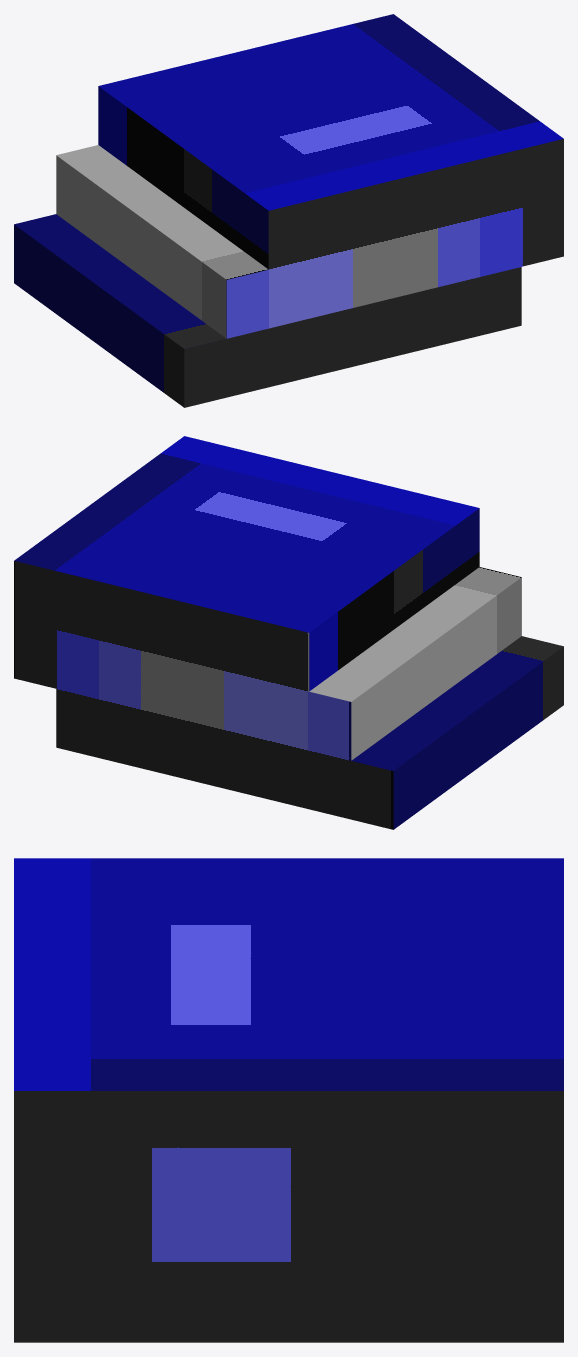
File: book_0x282_16.glb
The picture shows the model from 3 angles, top to bottom: view 1: azimuth 30°, elevation 25°; view 2: azimuth 150°, elevation 25°; view 3: azimuth 270°, elevation 25°; orthographic projection. The views are drawn at different scales.
Visible parts, largest first — view 1: Cube; view 2: Cube; view 3: Cube.
Boxes of the visible parts, <box> form: Cube: <box>14,14,563,407</box>; Cube: <box>14,436,563,829</box>; Cube: <box>14,858,563,1342</box>.
Bounding box in the file's own units: 0.5625 × 0.25 × 0.4375.
1 material, 1 textured.
